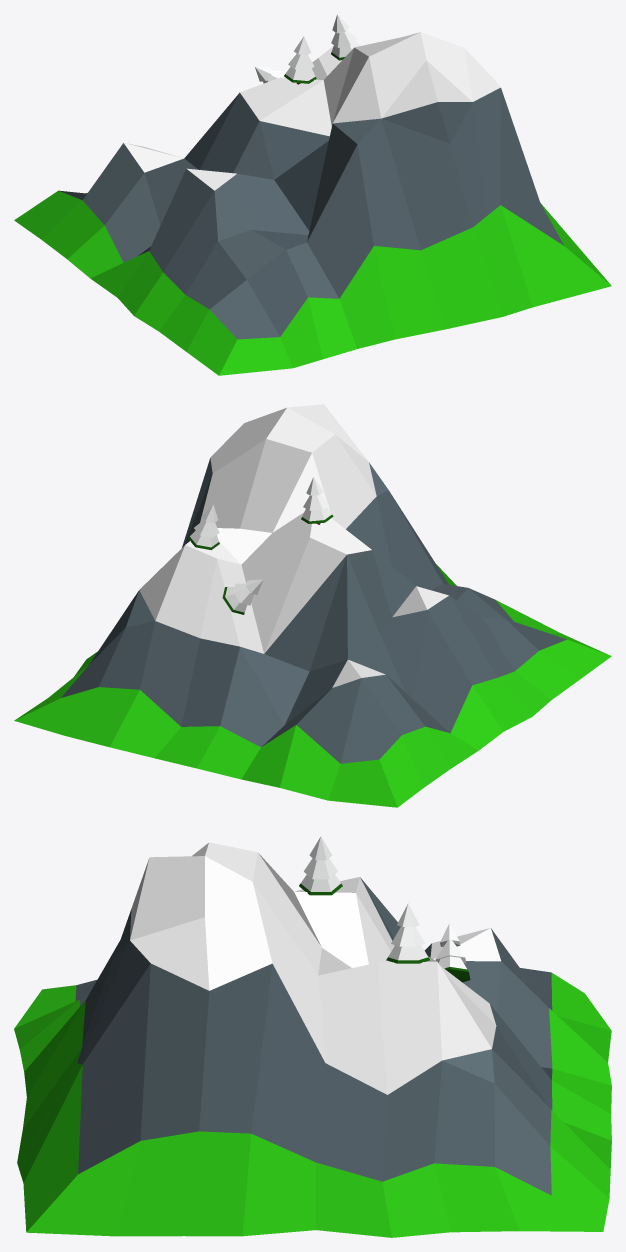
File: MountainA.fbx
3 renders of one model, top to bottom at view 1: azimuth 30°, elevation 25°; view 2: azimuth 150°, elevation 25°; view 3: azimuth 270°, elevation 25°, orthographic. The views are drawn at different scales.
Parts seen in each view (by area): view 1: Cube, Cube.001; view 2: Cube, Cube.001; view 3: Cube, Cube.001.
Part boxes in pixels (<box>): Cube: <box>59,14,563,339</box>; Cube.001: <box>14,190,611,375</box>; Cube: <box>61,404,566,763</box>; Cube.001: <box>14,564,611,807</box>; Cube: <box>75,836,552,1195</box>; Cube.001: <box>14,973,611,1237</box>.
Size of the model in its own units: 24652 by 13897 by 24950.
Materials: 1 (1 with a texture image).
